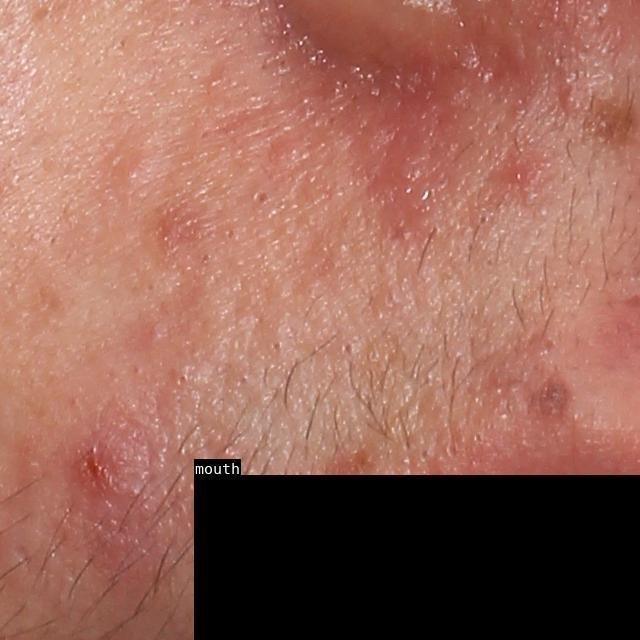comedo: (471, 209, 496, 232), (171, 365, 193, 388), (252, 188, 274, 210), (268, 338, 286, 355), (341, 339, 358, 357)
papule: (68, 428, 158, 522), (387, 139, 434, 197)
